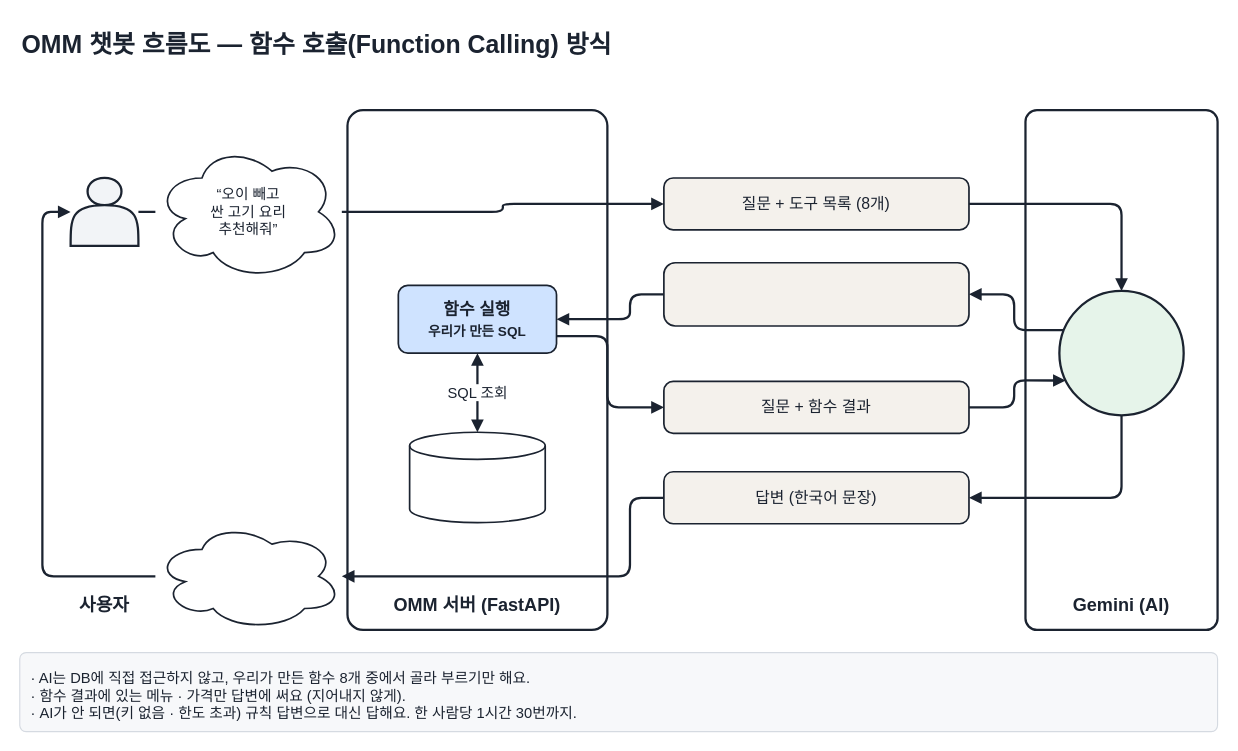
Image size: 1238x751. Some labels were removed from this diagram. Each missing label, with the centre of its shape:
"AI" belongs at point (1121, 352).
"PostgreSQL 레시피 · 시세 · 영양" belongs at point (477, 477).
"답변 + 메뉴 카드" belongs at point (248, 575).
"도구 호출 recommend_menus(avoid=오이, want=고기)" belongs at point (816, 293).
